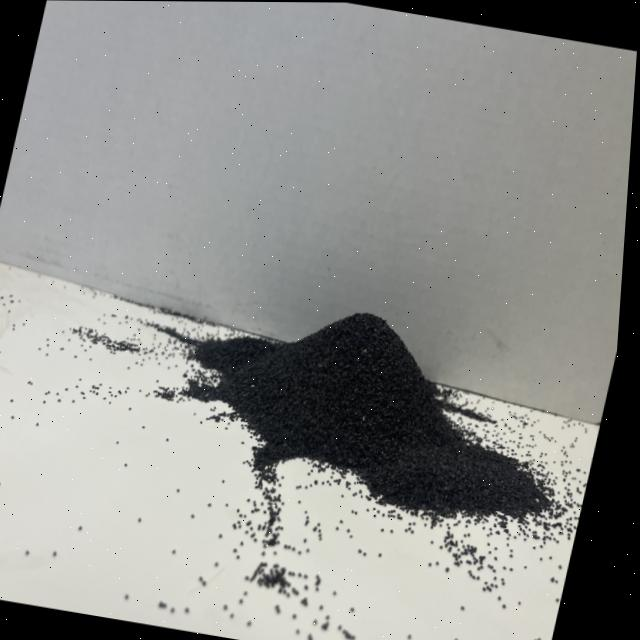Poppy Seeds: (159, 261, 569, 538)
